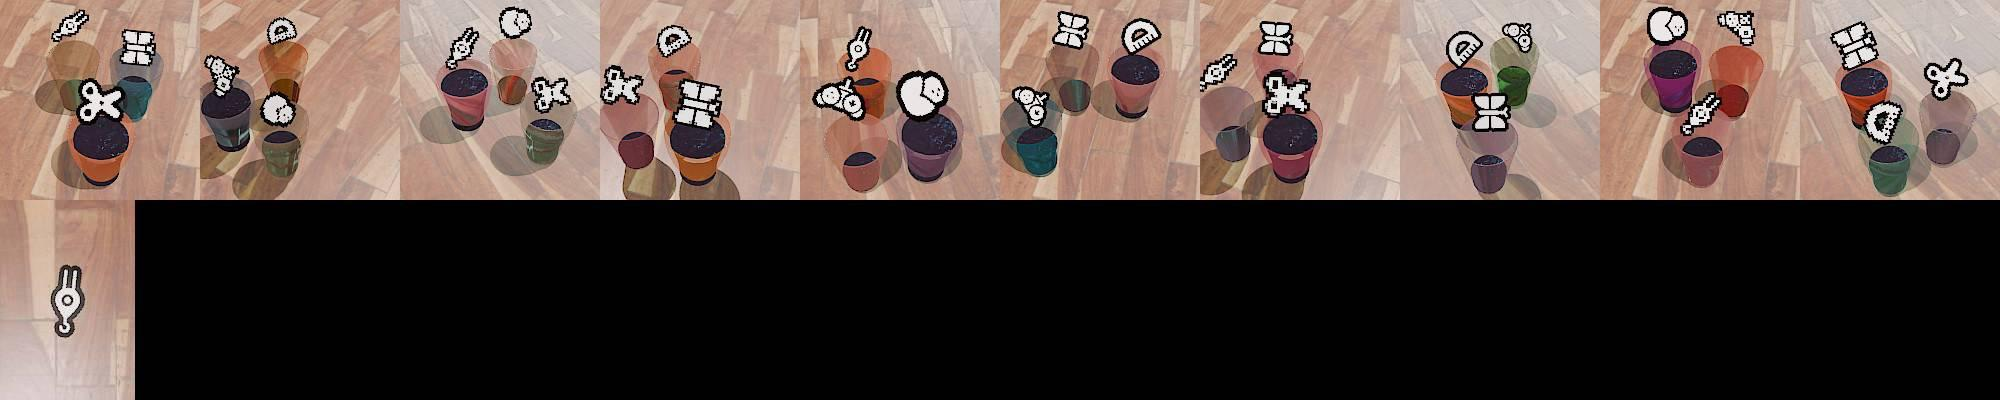icon: (895, 69, 949, 121), (50, 262, 85, 336), (672, 78, 724, 127), (814, 76, 867, 122), (1261, 71, 1314, 117), (75, 78, 126, 124), (1829, 20, 1878, 68), (1922, 59, 1968, 101), (601, 64, 645, 106), (1681, 90, 1723, 135), (1864, 99, 1904, 144), (1469, 92, 1513, 132), (531, 73, 573, 113), (1011, 85, 1050, 129), (1051, 10, 1092, 50), (1716, 9, 1758, 47), (1445, 29, 1485, 69), (1647, 6, 1687, 45), (204, 54, 240, 97), (1199, 51, 1236, 92), (445, 25, 481, 68), (1121, 18, 1161, 55), (119, 28, 157, 65), (843, 25, 872, 73), (52, 9, 91, 43), (1259, 19, 1295, 55), (259, 92, 296, 126), (1499, 22, 1534, 55), (656, 24, 691, 57), (497, 6, 533, 39), (265, 17, 298, 45)
